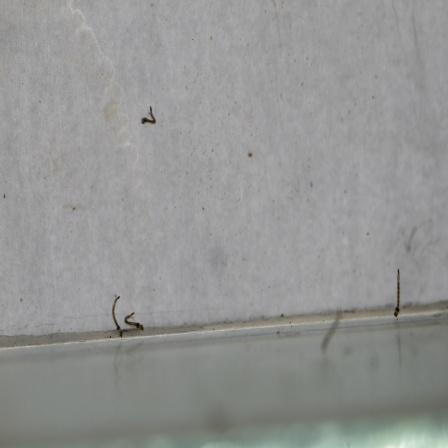Jentik-Nyamuk: (108, 293, 148, 338), (390, 265, 405, 319), (135, 102, 160, 127)
